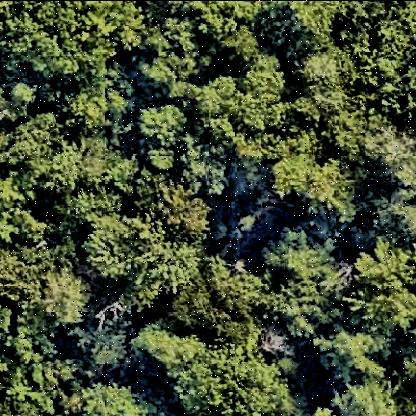tree-top: (2, 4, 130, 86), (79, 207, 188, 299), (165, 339, 295, 415), (263, 225, 345, 336), (198, 66, 286, 165), (176, 253, 264, 339), (55, 135, 136, 215), (349, 243, 416, 333), (288, 150, 362, 226), (134, 316, 210, 389), (137, 19, 208, 94), (321, 335, 400, 402), (314, 318, 393, 382), (1, 345, 69, 413), (32, 262, 97, 331), (296, 44, 354, 118), (4, 108, 63, 178), (360, 119, 416, 191), (271, 1, 350, 52), (65, 373, 155, 416), (174, 139, 232, 203), (328, 375, 411, 416), (74, 313, 130, 372), (1, 166, 41, 246), (137, 99, 191, 149), (373, 190, 416, 250), (157, 194, 213, 240), (195, 1, 276, 31), (1, 74, 38, 126), (396, 326, 416, 404)
